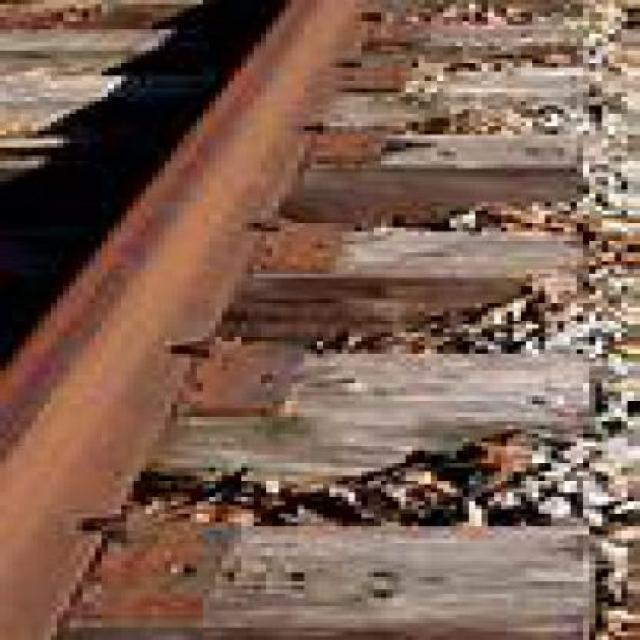defective: (3, 2, 452, 638)
